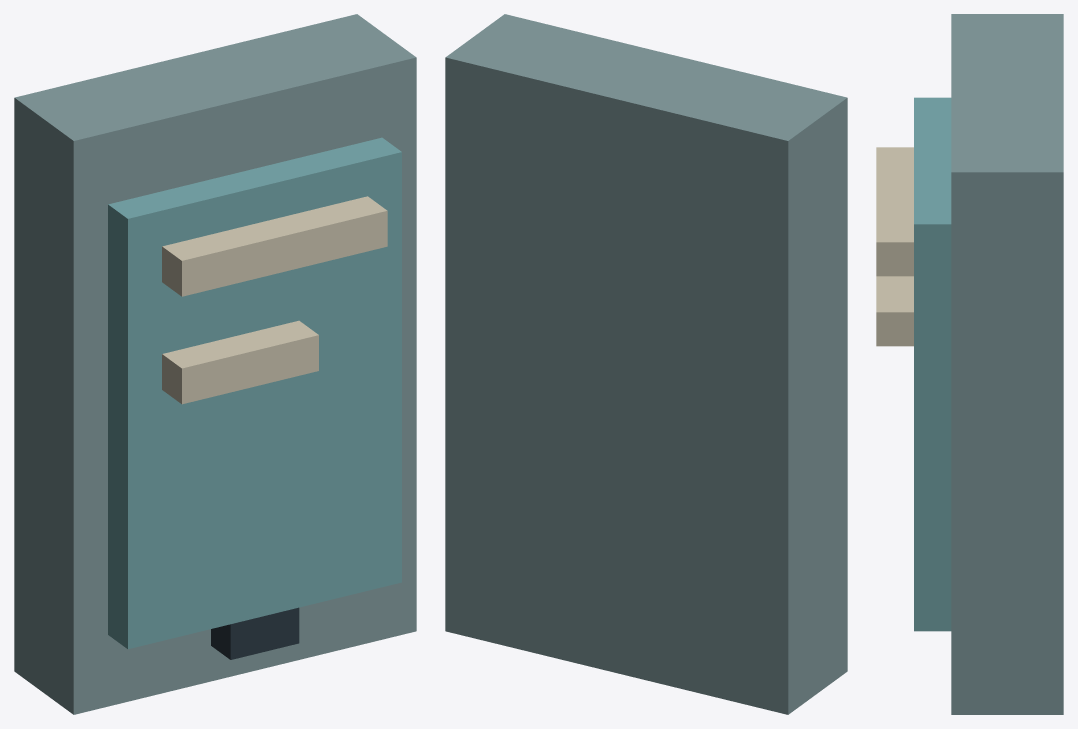
The model's file is iot-14.glb.
3 views of the same model, side by side, from view 1: azimuth 30°, elevation 25°; view 2: azimuth 150°, elevation 25°; view 3: azimuth 270°, elevation 25° (orthographic). The views are drawn at different scales.
Visible parts, largest first — view 1: Control tablet; view 2: Control tablet; view 3: Control tablet.
Part boxes in pixels (x1,y1,x2,y2): Control tablet: [14, 14, 416, 714]; Control tablet: [445, 14, 847, 714]; Control tablet: [876, 14, 1063, 714].
Size of the model in its own units: 0.8 by 1.28 by 0.4.
